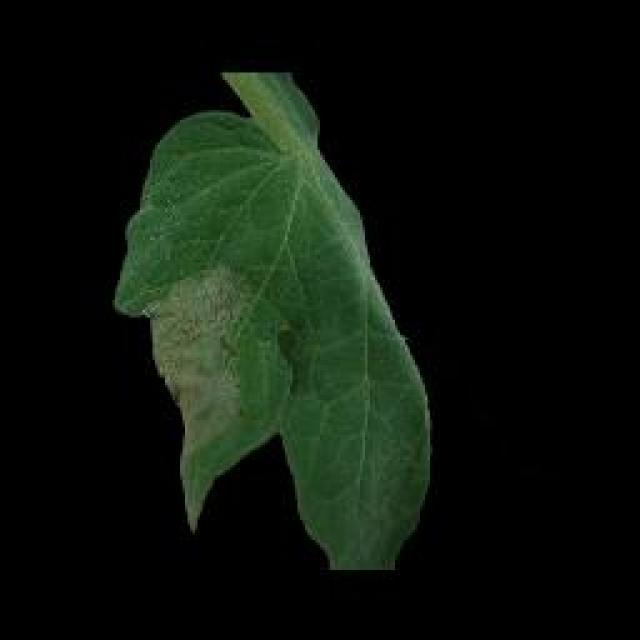Tomato late blight leaf: (112, 103, 430, 572)
